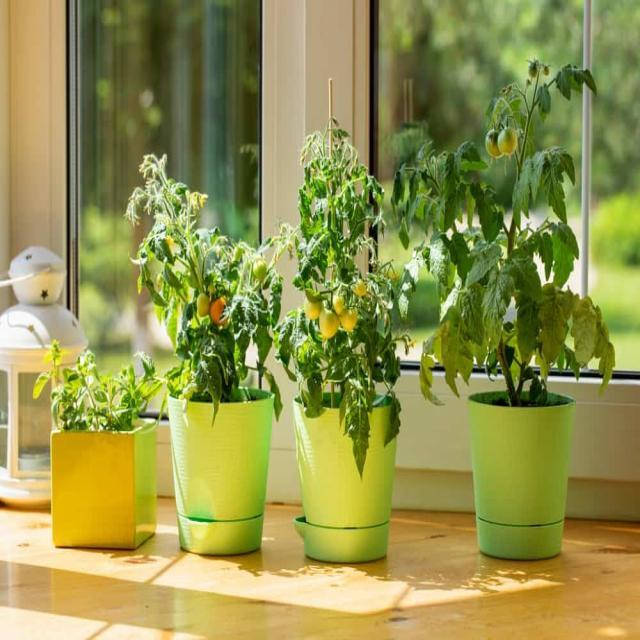tomato: (392, 59, 615, 407), (278, 119, 401, 482), (124, 154, 284, 429), (32, 339, 167, 434)
